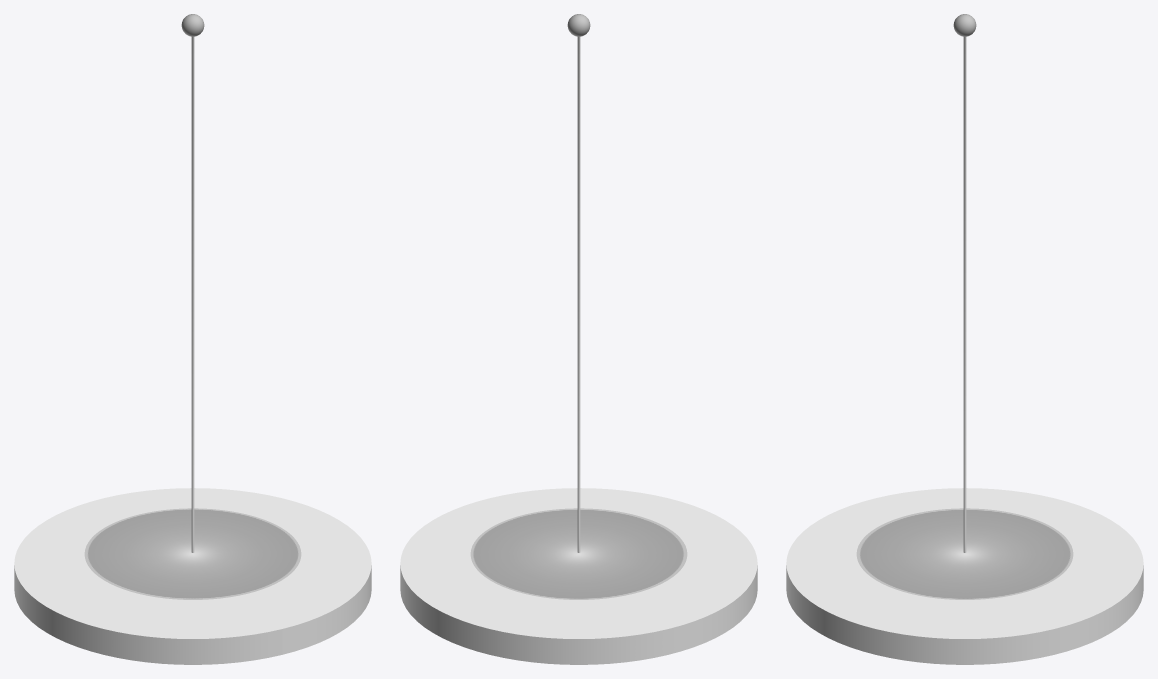
File: 点 远距离.fbx
3 views of the same model, side by side, from view 1: azimuth 30°, elevation 25°; view 2: azimuth 150°, elevation 25°; view 3: azimuth 270°, elevation 25° (orthographic).
Visible parts, largest first — view 1: Box001, 对象001, Cylinder003; view 2: Box001, 对象001, Cylinder003; view 3: Box001, 对象001, Cylinder003.
Boxes of the visible parts, left/top/right/bottom form: Box001: left=14, top=488, right=371, bottom=664; 对象001: left=84, top=508, right=301, bottom=599; Cylinder003: left=191, top=36, right=194, bottom=552; Box001: left=400, top=488, right=757, bottom=664; 对象001: left=470, top=508, right=687, bottom=599; Cylinder003: left=577, top=36, right=580, bottom=552; Box001: left=786, top=488, right=1143, bottom=664; 对象001: left=856, top=508, right=1073, bottom=599; Cylinder003: left=963, top=36, right=966, bottom=552.
Bounding box in the file's own units: 1.25 × 2.22 × 1.25.
